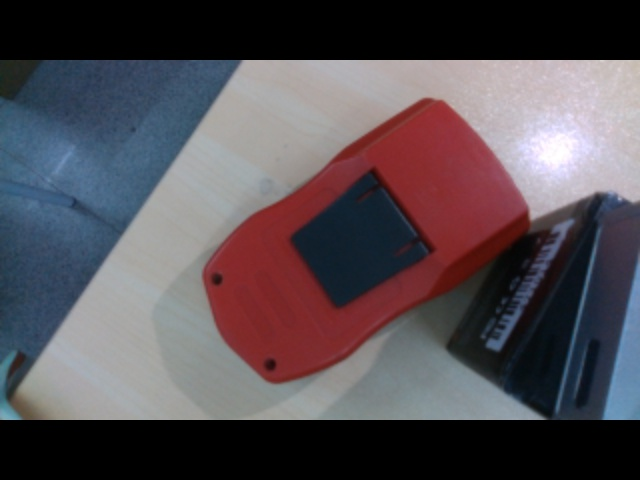Multimeter: (203, 96, 535, 384)
Screw holes: (209, 272, 223, 286), (263, 358, 278, 371)
